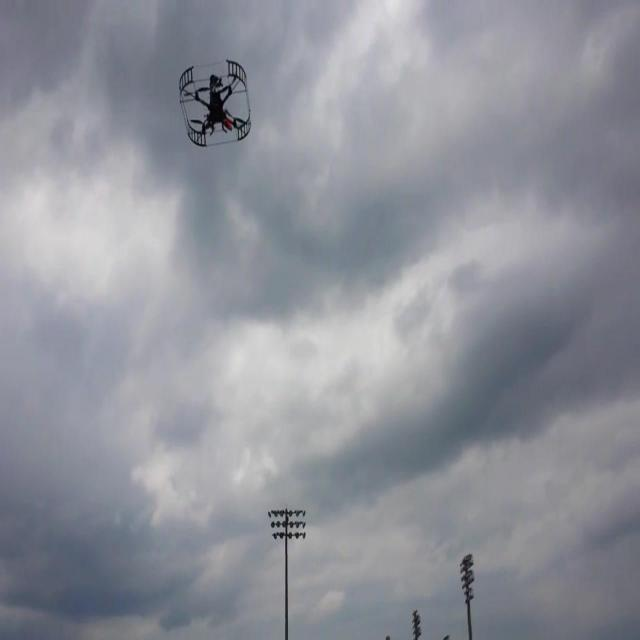UAV: (179, 60, 251, 146)
